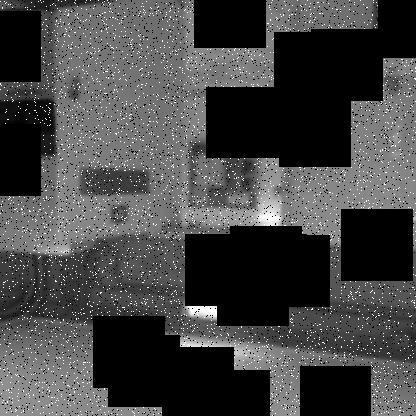Porte: (50, 1, 304, 245)
